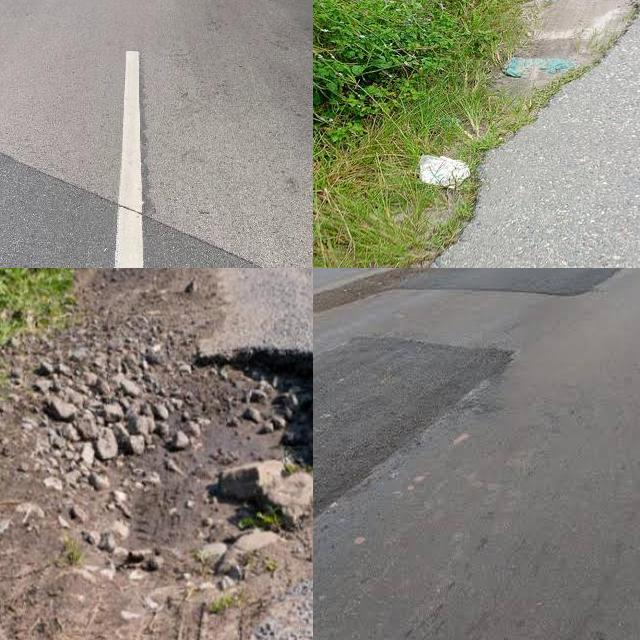Pinggir: (376, 0, 640, 268), (145, 339, 313, 640)
Sambungan: (313, 335, 528, 529), (0, 153, 256, 268), (401, 268, 625, 300)
